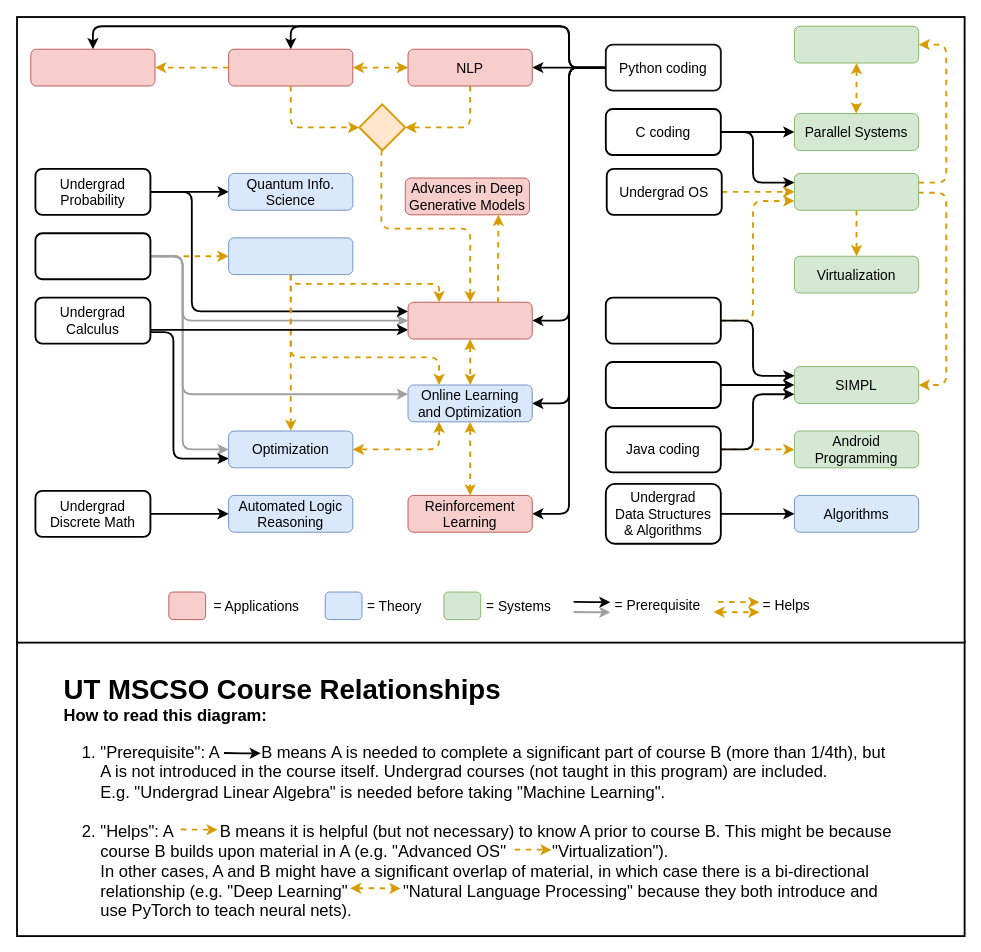
This 981x952 diagram has some shape labels left out. Each missing label, with the centre of its shape:
"Advanced Linear Algebra" goes at point 290,256.
"Advanced OS" goes at point 856,191.
"Advances in Deep Learning" goes at point 92,67.
"Deep Learning" goes at point 290,67.
"Distributed Systems" goes at point 856,44.
"Machine Learning" goes at point 469,320.
"OR" goes at point 382,127.
"Undergrad Comp. Architecture" goes at point 662,320.
"Undergrad Linear Algebra" goes at point 92,256.
"Undergrad Theory of Computing" goes at point 662,384.
